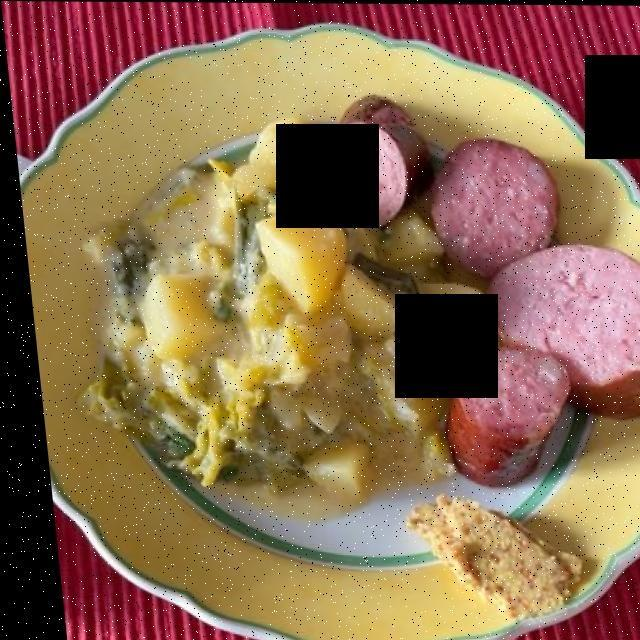mustard: (399, 509, 578, 616)
potatoes: (133, 129, 482, 508)
sausage: (311, 96, 640, 499)
